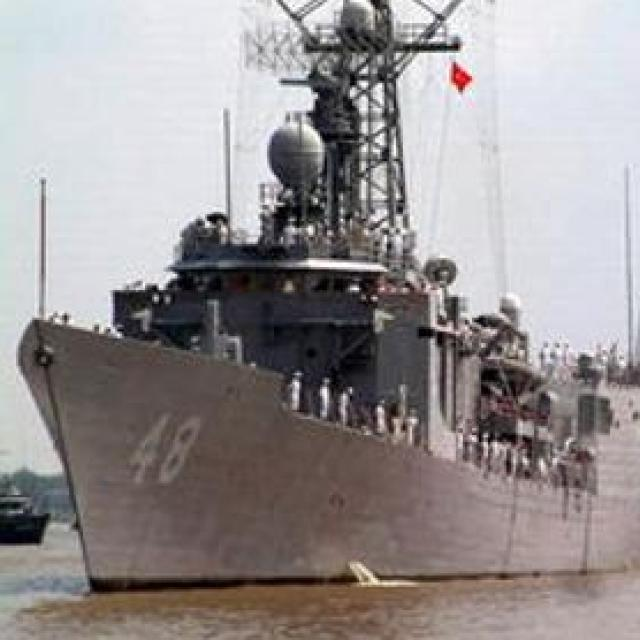navalvessels: (16, 0, 640, 599)
